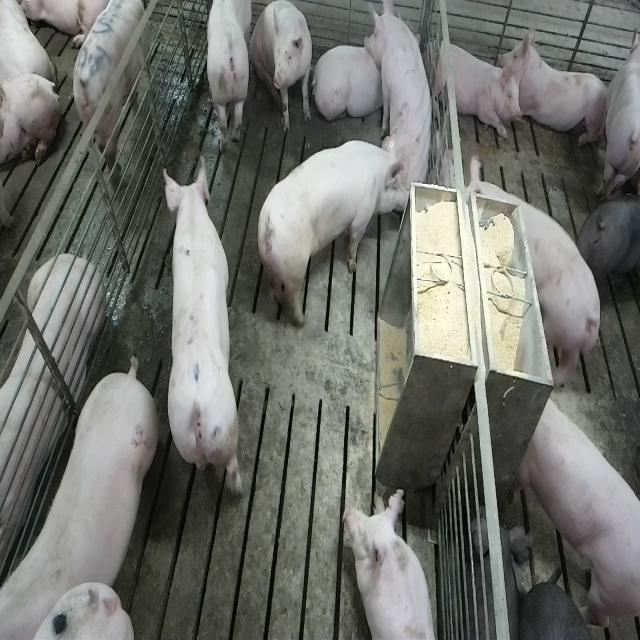Feeding: (254, 138, 402, 328)
Sitting: (367, 0, 438, 204), (251, 0, 314, 136)
Standing: (516, 390, 638, 630), (159, 152, 236, 506), (513, 201, 605, 390), (76, 0, 160, 193), (204, 2, 253, 152), (575, 192, 640, 295)
Sternal_lying: (0, 249, 102, 577), (347, 485, 441, 640), (502, 18, 611, 147), (427, 31, 523, 140), (315, 40, 388, 126)
